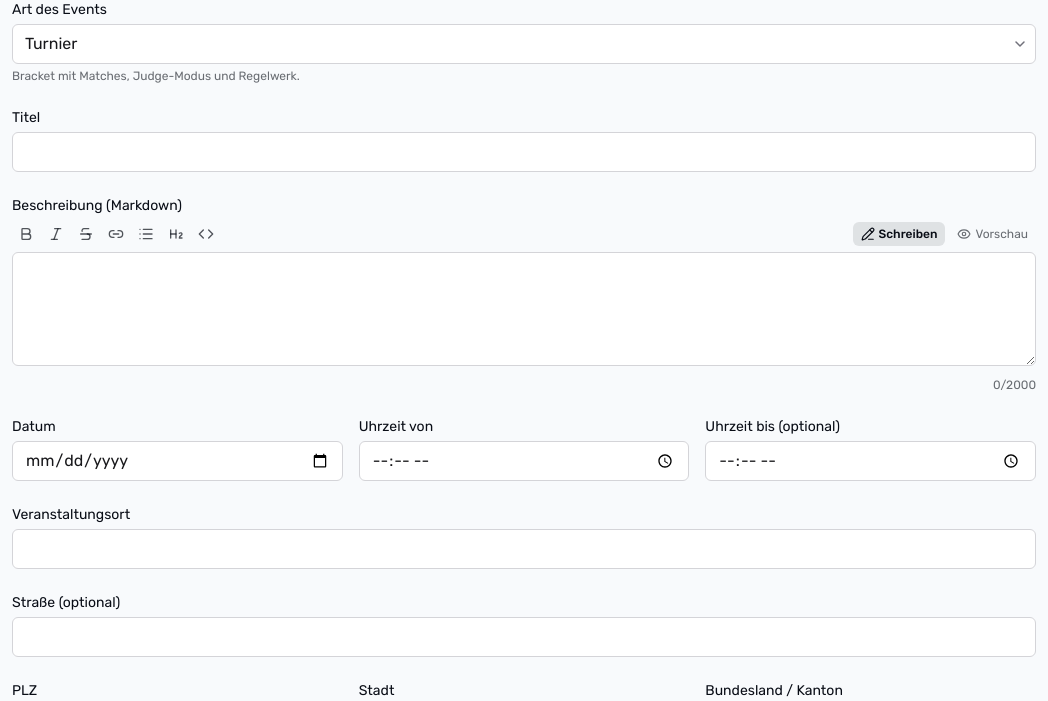
Test: TournamentForm — address autocomplete (Phase 9) › shows suggestions while typing and fills all location fields on selection
The width and height of the screenshot is (1048, 701).
In the field labelled "Veranstaltungsort": (524, 549) x1=12 y1=529 x2=1036 y2=569, type "Marienplatz Arena"
Wait 300 ms
(page scrolled)
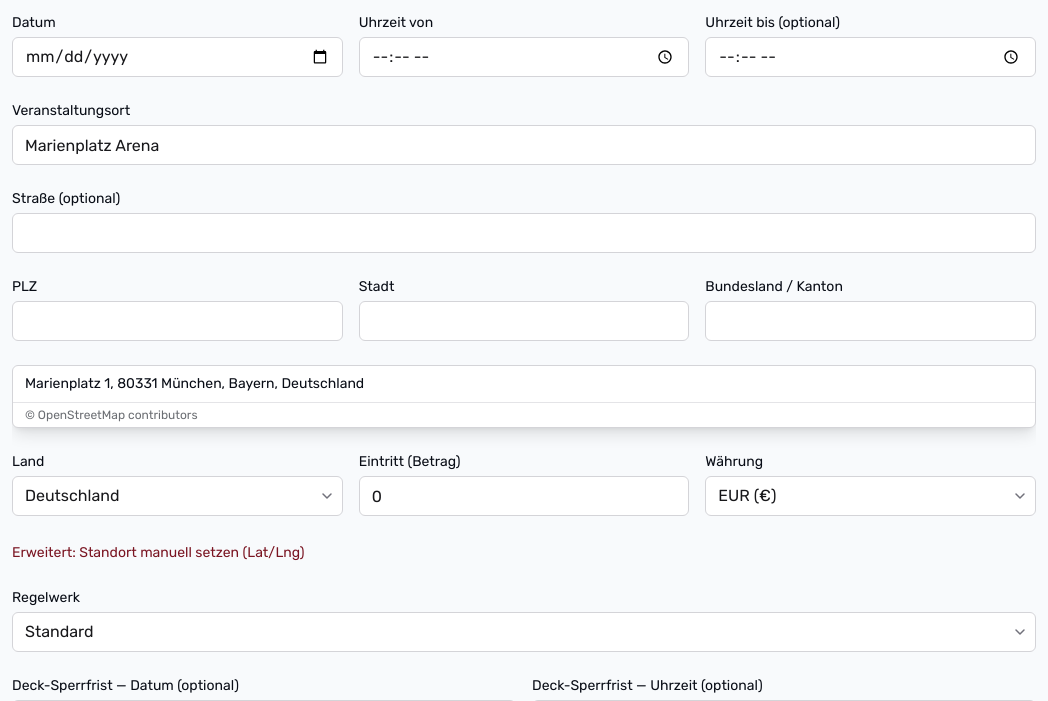
Click the option "Marienplatz 1, 80331 München, Bayern, Deutschland": (195, 384) x1=13 y1=366 x2=1035 y2=402
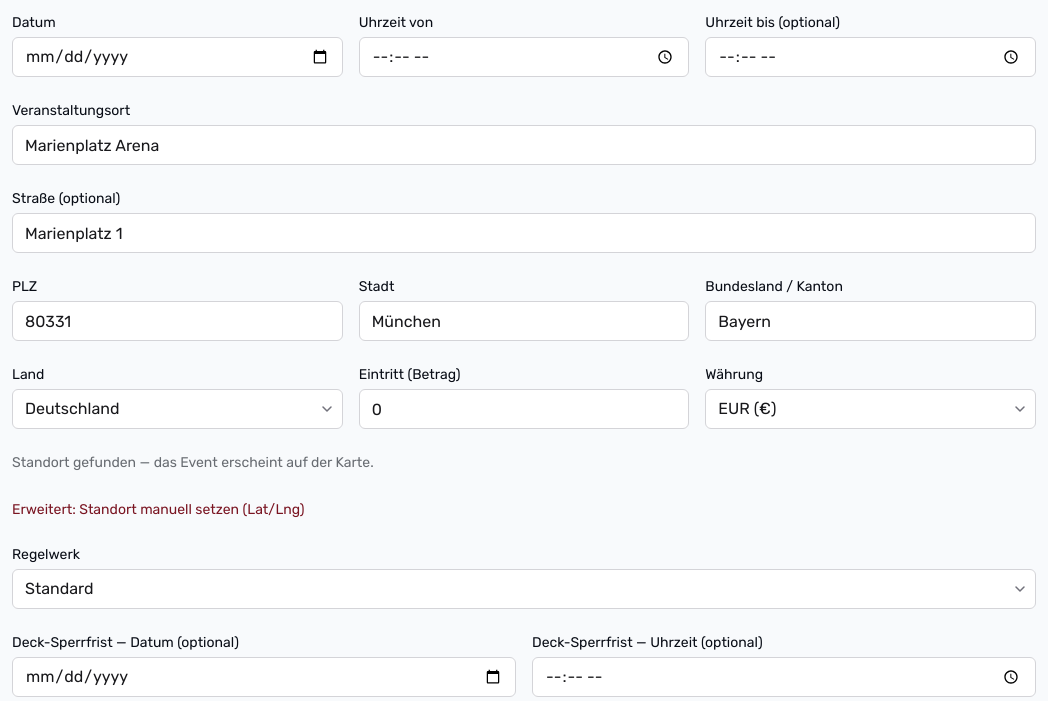
Check: the field labelled "Straße (optional)" holds "Marienplatz 1", box x1=12 y1=213 x2=1036 y2=253
Check: the field labelled "PLZ" holds "80331", box x1=12 y1=301 x2=343 y2=341
Check: the field labelled "Stadt" holds "München", box x1=359 y1=301 x2=689 y2=341
Click the button "Erweitert: Standort manuell setzen (Lat/Lng)": (158, 510) x1=12 y1=500 x2=304 y2=520
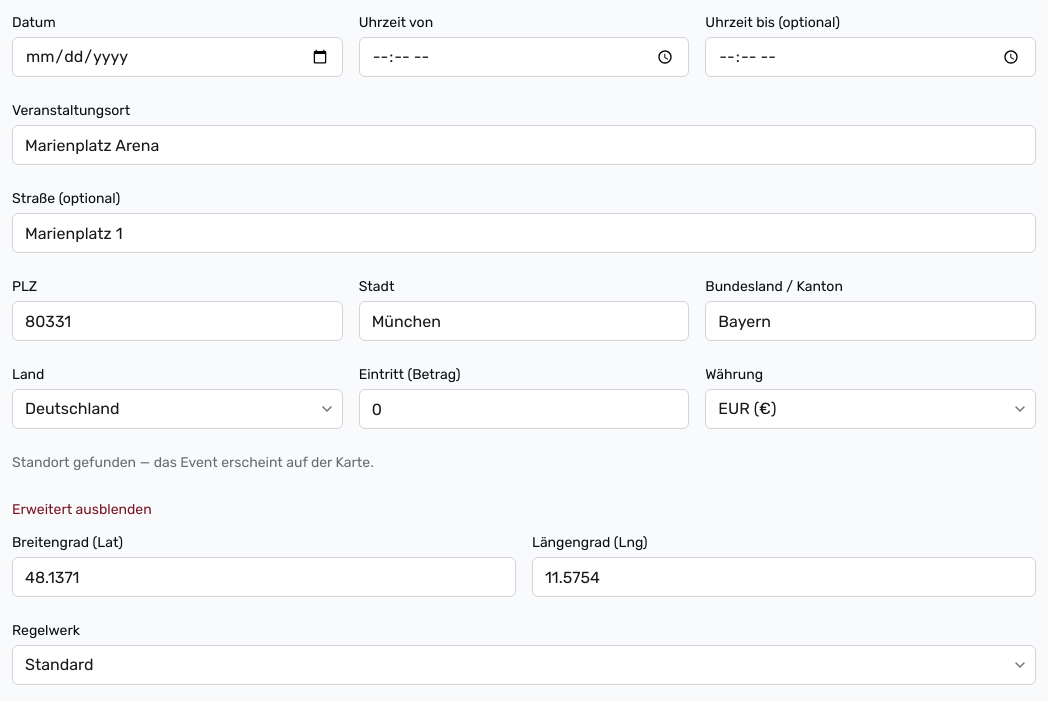
Check: the number field labelled "Breitengrad (Lat)" holds "48.1371", box x1=12 y1=557 x2=516 y2=597
Check: the number field labelled "Längengrad (Lng)" holds "11.5754", box x1=532 y1=557 x2=1036 y2=597
